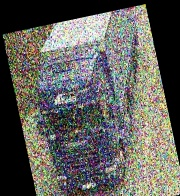truck: (17, 7, 168, 196)
